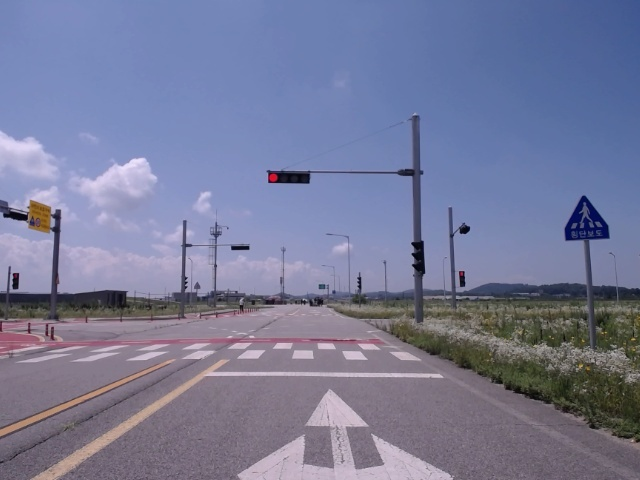red_4: (268, 173, 310, 184)
